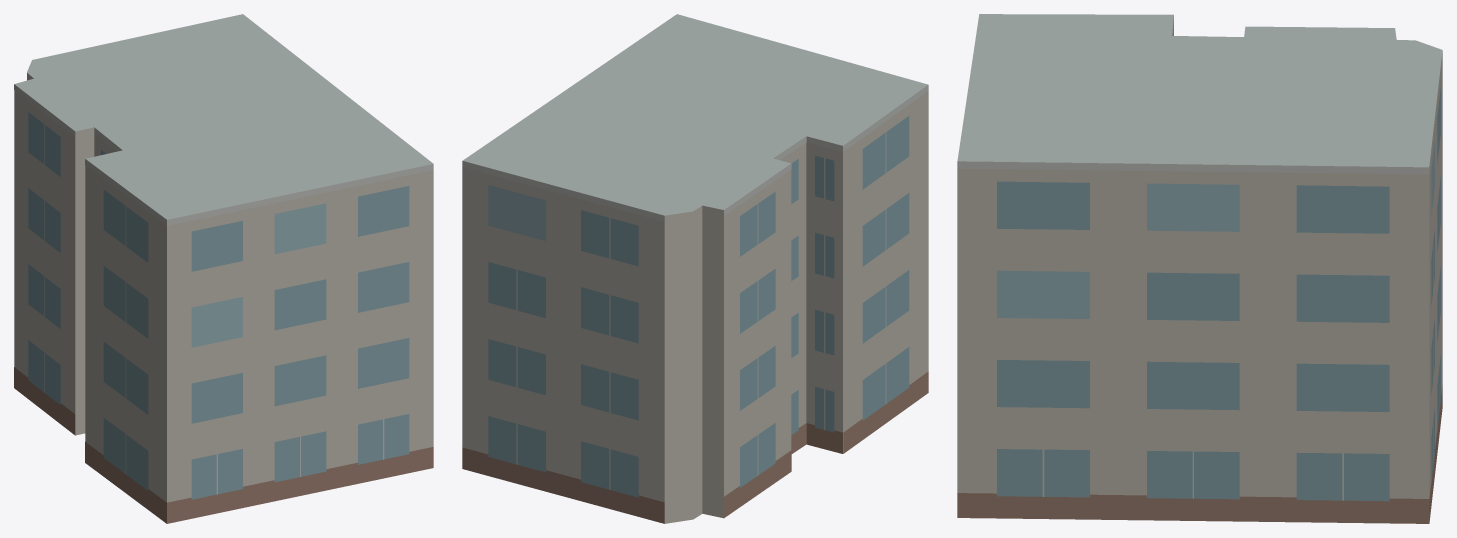
File: survey-upis-32894488.glb
The picture shows the model from 3 angles, left to right: view 1: azimuth 30°, elevation 25°; view 2: azimuth 150°, elevation 25°; view 3: azimuth 270°, elevation 25°; orthographic projection. The views are drawn at different scales.
Parts seen in each view (by area): view 1: survey-upis-32894488.tmp; view 2: survey-upis-32894488.tmp; view 3: survey-upis-32894488.tmp.
Part boxes in pixels (box(x1,y1,x2,y2)): survey-upis-32894488.tmp: box(14, 14, 433, 523); survey-upis-32894488.tmp: box(462, 14, 928, 523); survey-upis-32894488.tmp: box(957, 14, 1442, 523).
Bounding box in the file's own units: 11.26 × 12.2 × 15.06.
